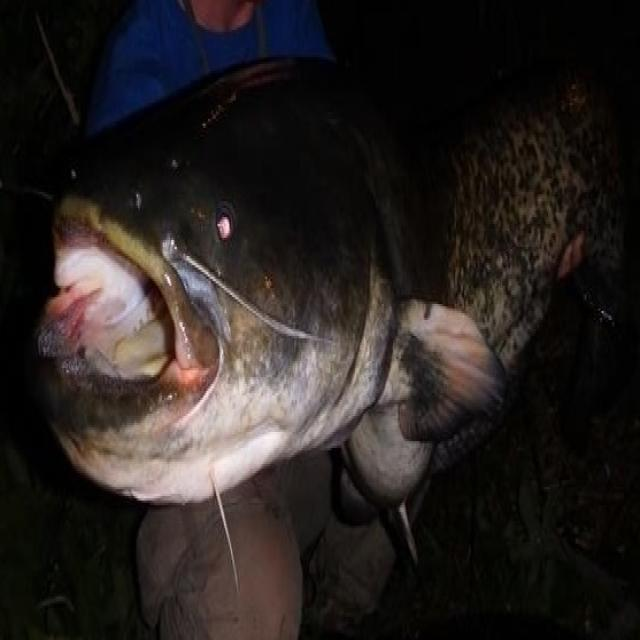Catfish: (35, 68, 632, 570)
